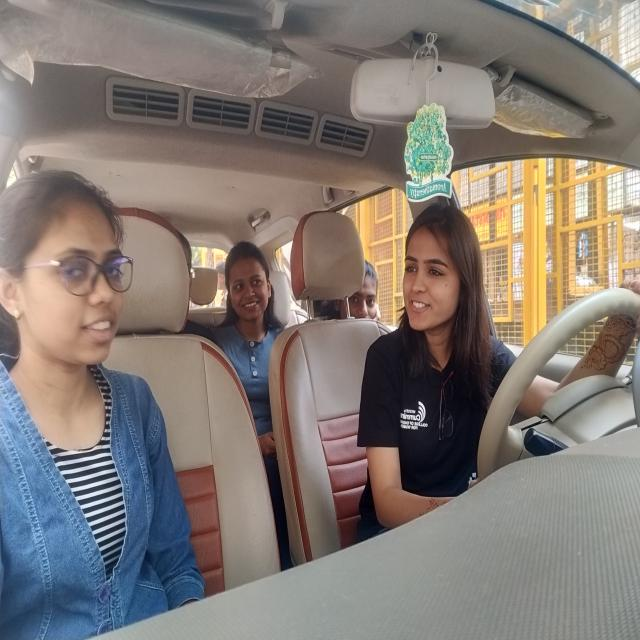LeftRight: (397, 206, 496, 340)
person: (0, 173, 143, 374), (215, 236, 280, 326), (339, 262, 380, 323)
talking: (80, 313, 114, 341), (410, 298, 431, 315)
